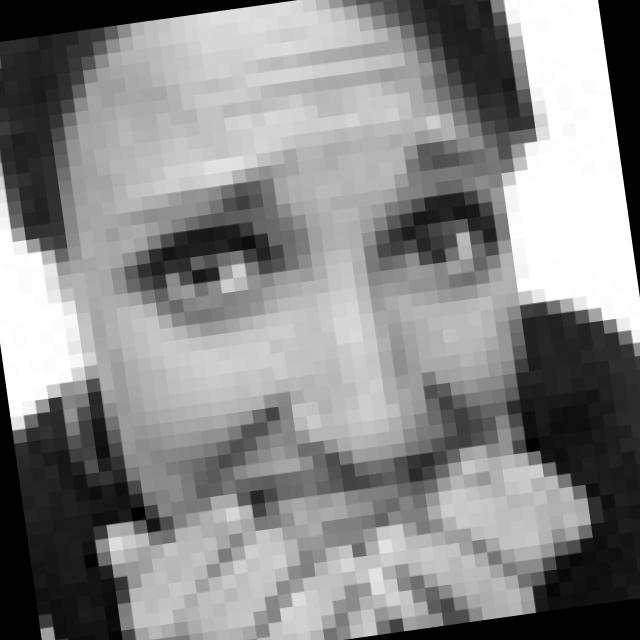fear: (96, 105, 547, 600)
